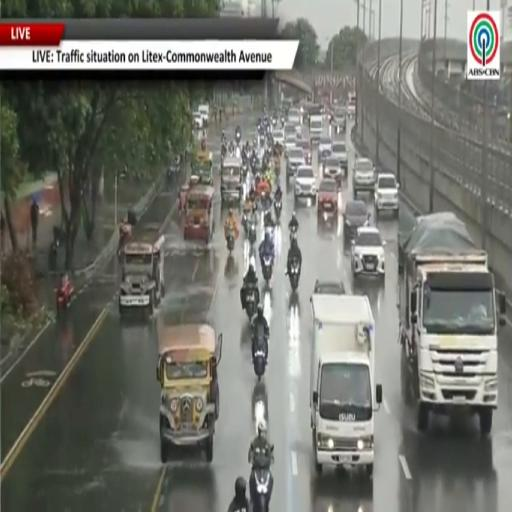car: (351, 227, 384, 277), (343, 200, 370, 242), (374, 173, 399, 217), (352, 158, 375, 198), (318, 179, 338, 223), (294, 166, 317, 203), (331, 141, 347, 177), (323, 156, 342, 186), (286, 148, 305, 177), (314, 280, 345, 295), (310, 116, 323, 146), (333, 105, 346, 134), (296, 139, 311, 164), (319, 136, 332, 161), (288, 108, 301, 131), (198, 104, 209, 126), (285, 133, 296, 155), (193, 111, 203, 130), (273, 131, 284, 147)
jeepney: (157, 325, 222, 462), (119, 229, 164, 316), (184, 185, 214, 244), (221, 156, 242, 202), (192, 160, 213, 185), (195, 150, 212, 163)
motorcycle: (251, 468, 273, 511), (252, 468, 272, 512), (252, 325, 267, 380), (56, 280, 74, 313), (246, 286, 258, 319), (253, 350, 266, 380), (48, 240, 59, 271), (289, 260, 299, 291), (262, 254, 273, 282), (226, 230, 235, 253), (248, 220, 256, 245), (274, 201, 282, 220), (242, 159, 248, 179), (290, 227, 297, 243), (236, 132, 241, 145), (281, 118, 285, 129)
truck: (399, 213, 506, 436), (310, 294, 382, 477)
